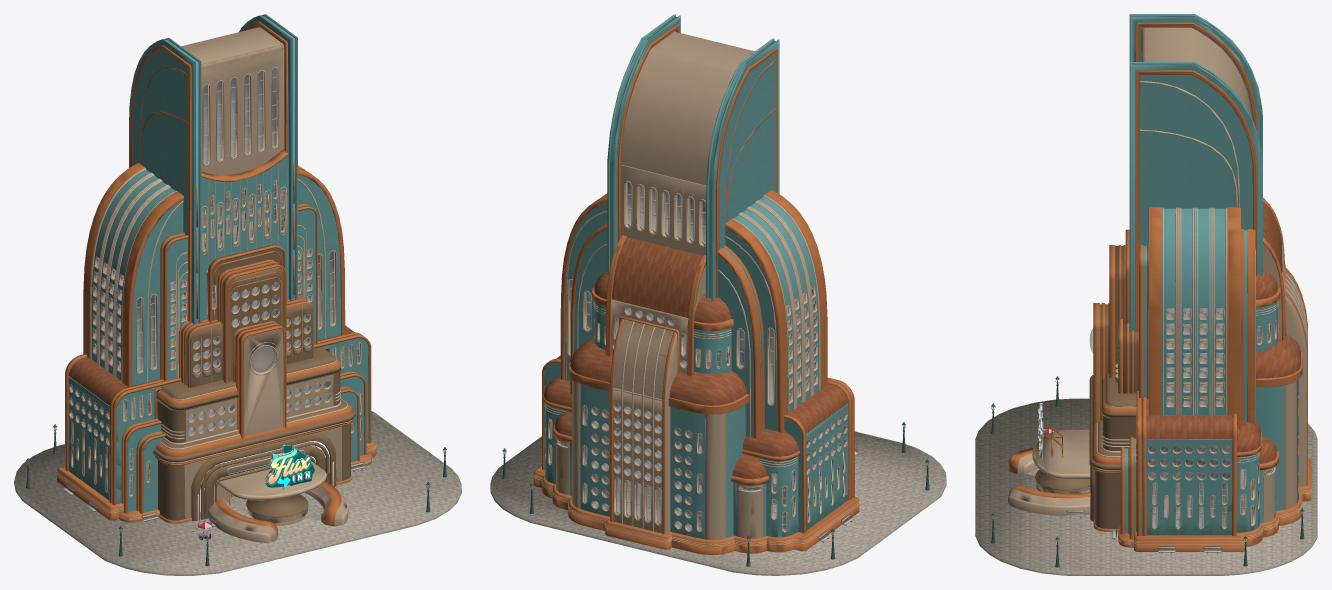
File: cargo_retro_hotel.glb
The picture shows the model from 3 angles, left to right: view 1: azimuth 30°, elevation 25°; view 2: azimuth 150°, elevation 25°; view 3: azimuth 270°, elevation 25°; orthographic projection. The views are drawn at different scales.
Visible parts, largest first — view 1: KB3D_ATP_BldgLgHotel_A_BuildingB, KB3D_ATP_BldgLgHotel_A_Base, KB3D_ATP_BldgLgHotel_A_BuildingB_transparent, KB3D_ATP_BldgLgHotel_A_BuildingA, KB3D_ATP_BldgLgHotel_A_Signage; view 2: KB3D_ATP_BldgLgHotel_A_BuildingB, KB3D_ATP_BldgLgHotel_A_Base, KB3D_ATP_BldgLgHotel_A_BuildingB_transparent; view 3: KB3D_ATP_BldgLgHotel_A_BuildingB, KB3D_ATP_BldgLgHotel_A_Base, KB3D_ATP_BldgLgHotel_A_BuildingA, KB3D_ATP_BldgLgHotel_A_BuildingB_transparent, KB3D_ATP_BldgLgHotel_A_Signage.
Part boxes in pixels (x1,y1,x2,y2): KB3D_ATP_BldgLgHotel_A_BuildingB: (57,14,376,523); KB3D_ATP_BldgLgHotel_A_Base: (14,411,461,575); KB3D_ATP_BldgLgHotel_A_BuildingB_transparent: (71,68,359,494); KB3D_ATP_BldgLgHotel_A_BuildingA: (208,461,348,543); KB3D_ATP_BldgLgHotel_A_Signage: (265,444,314,489); KB3D_ATP_BldgLgHotel_A_BuildingB: (533,14,859,554); KB3D_ATP_BldgLgHotel_A_Base: (490,431,946,575); KB3D_ATP_BldgLgHotel_A_BuildingB_transparent: (551,182,845,529); KB3D_ATP_BldgLgHotel_A_BuildingB: (1089,14,1311,551); KB3D_ATP_BldgLgHotel_A_Base: (975,398,1317,575); KB3D_ATP_BldgLgHotel_A_BuildingA: (1008,430,1090,515); KB3D_ATP_BldgLgHotel_A_BuildingB_transparent: (1089,309,1271,526); KB3D_ATP_BldgLgHotel_A_Signage: (1038,403,1063,459).
Bounding box in the file's own units: 64.92 × 78.03 × 53.83.
30 materials, 30 textured.
